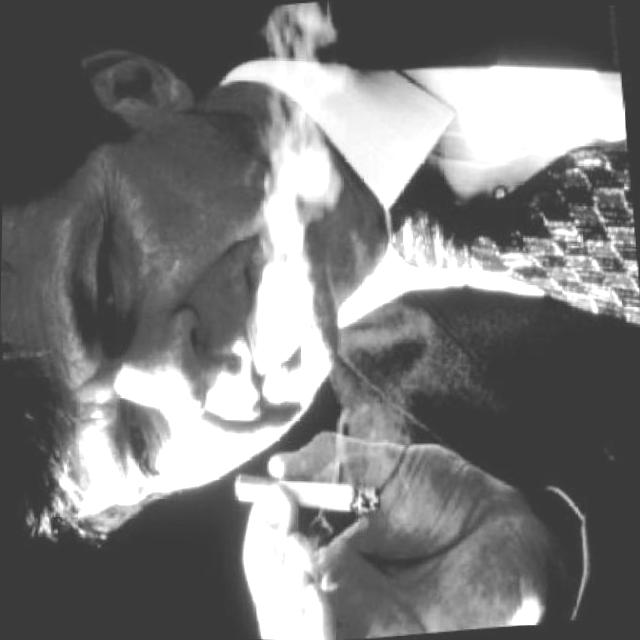smoke: (228, 453, 384, 532)
